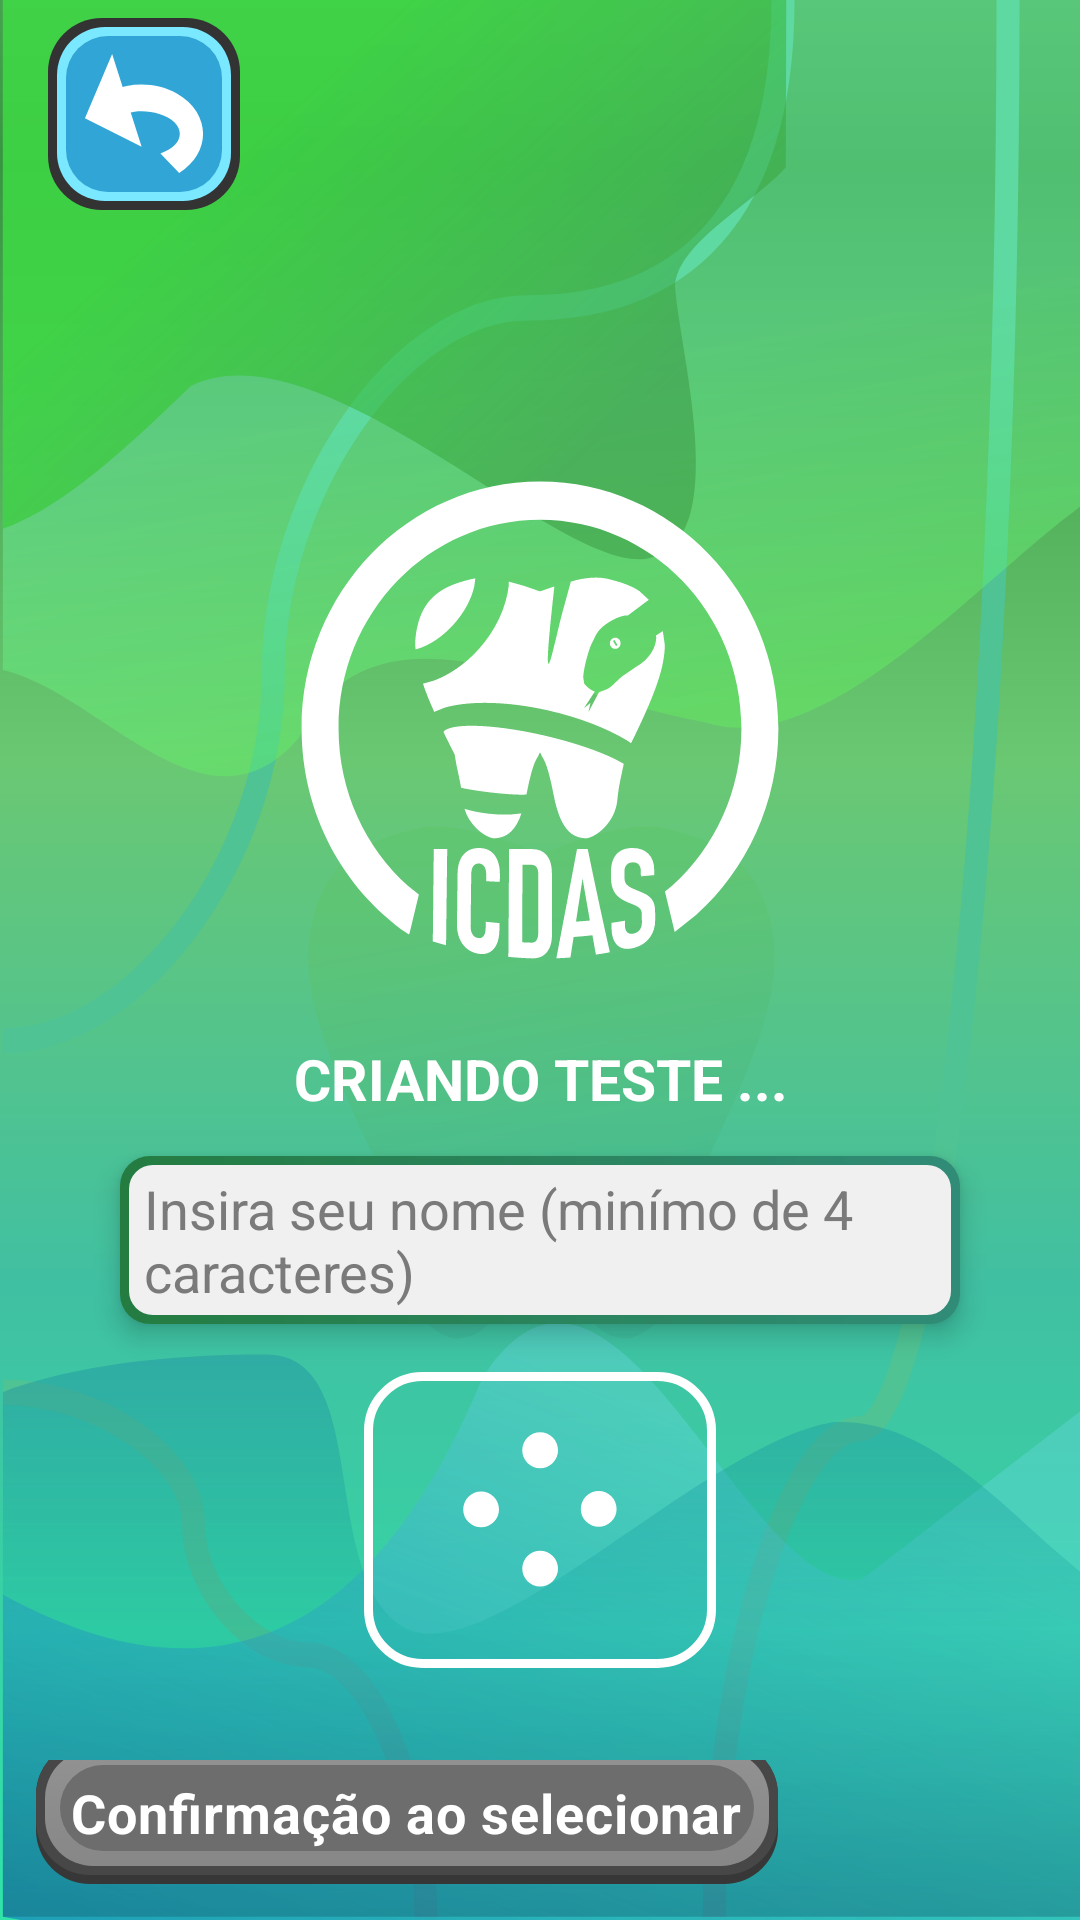

Point at icon controls on the screen. Image size 1080x1920, points as (x=x, y=y).
return: (x=144, y=114)
